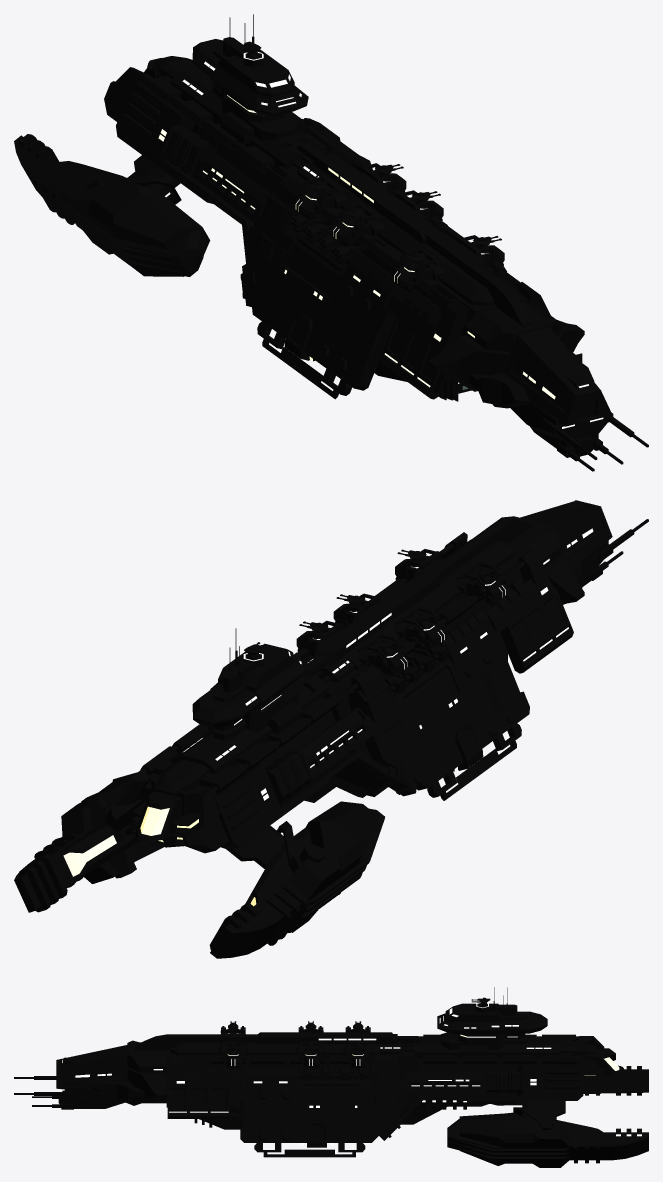
File: Spaceship.fbx
3 renders of one model, top to bottom at view 1: azimuth 30°, elevation 25°; view 2: azimuth 150°, elevation 25°; view 3: azimuth 270°, elevation 25°, orthographic. The views are drawn at different scales.
Parts seen in each view (by area): view 1: HullSides, HullFront, RightEngine, HullTop, CaptainBridge, HullBridgePlatform, HullBase, TurretPlatform_004, TurretPlatform_003, TurretPlatform_005, TurretPlatform, TurretPlatform_001 (+2 smaller); view 2: HullSides, RightEngine, HullTop, LeftEngine, HullBridgePlatform, CaptainBridge, HullFront, HullBase, Engine, TurretPlatform_005, TurretPlatform_003, TurretPlatform_004 (+4 smaller); view 3: HullSides, LeftEngine, HullFront, HullTop, HullBase, CaptainBridge, HullBridgePlatform, HullBottom, RightEngine, Engine, TurretPlatform, TurretPlatform_001 (+1 smaller).
Boxes of the visible parts, x1,y1,x2,y2 form: HullSides: (104, 67, 550, 399); HullFront: (428, 301, 648, 471); RightEngine: (14, 134, 210, 276); HullTop: (292, 142, 531, 325); CaptainBridge: (192, 14, 308, 144); HullBridgePlatform: (140, 56, 340, 172); HullBase: (197, 127, 530, 391); TurretPlatform_004: (332, 202, 383, 246); TurretPlatform_003: (393, 247, 444, 291); TurretPlatform_005: (295, 175, 346, 219); TurretPlatform: (455, 235, 504, 267); TurretPlatform_001: (396, 190, 443, 221); HullSides: (104, 532, 573, 853); RightEngine: (209, 801, 384, 958); HullTop: (299, 518, 531, 683); LeftEngine: (14, 772, 163, 912); HullBridgePlatform: (140, 675, 340, 795); CaptainBridge: (192, 628, 308, 739); HullFront: (472, 500, 648, 604); HullBase: (258, 536, 528, 789); Engine: (132, 774, 209, 847); TurretPlatform_005: (356, 633, 408, 676); TurretPlatform_003: (454, 561, 506, 604); TurretPlatform_004: (393, 605, 445, 649); HullSides: (167, 1034, 615, 1157); LeftEngine: (447, 1094, 648, 1167); HullFront: (14, 1040, 167, 1109); HullTop: (135, 1032, 422, 1063); HullBase: (166, 1046, 516, 1116); CaptainBridge: (437, 987, 547, 1057); HullBridgePlatform: (414, 1034, 596, 1063); HullBottom: (194, 1100, 488, 1145); RightEngine: (492, 1066, 648, 1105); Engine: (516, 1048, 624, 1095); TurretPlatform: (218, 1042, 247, 1068); TurretPlatform_001: (296, 1042, 325, 1068).
Size of the model in its own units: 1486 by 1299 by 4903.
